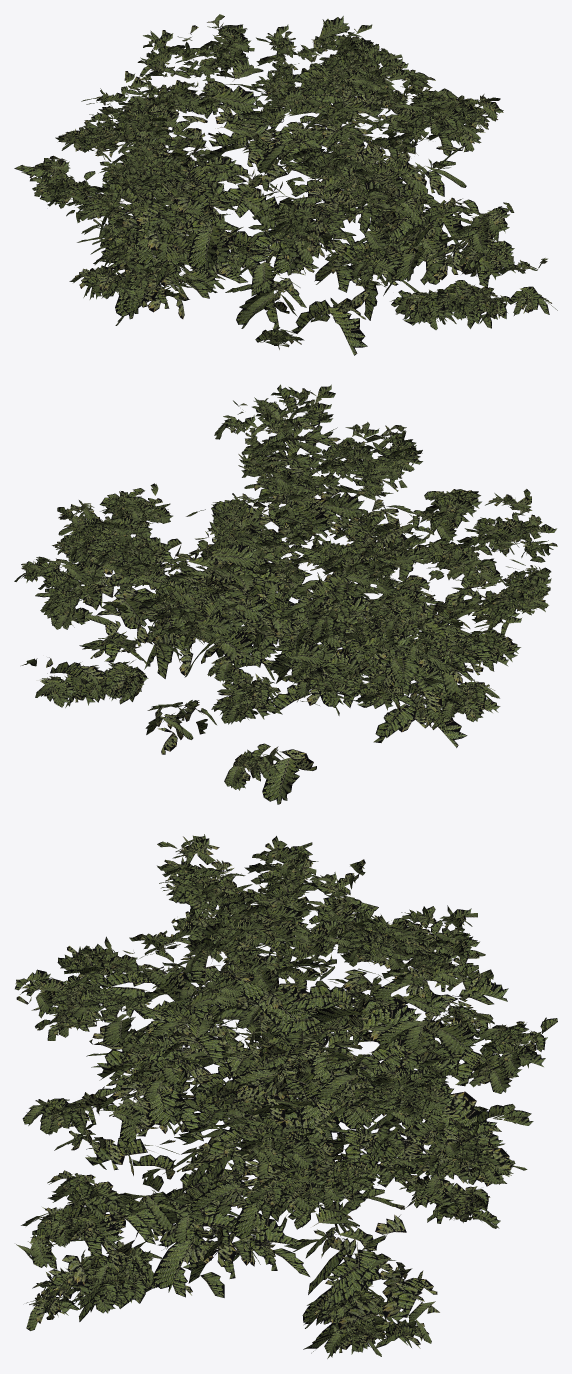
Rendered from jacaranda_L0_hojas.glb.
3 renders of one model, top to bottom at view 1: azimuth 30°, elevation 25°; view 2: azimuth 150°, elevation 25°; view 3: azimuth 270°, elevation 25°, orthographic. The views are drawn at different scales.
Visible parts, largest first — view 1: jacaranda_tree_LOD0; view 2: jacaranda_tree_LOD0; view 3: jacaranda_tree_LOD0.
Part boxes in pixels (x1,y1,x2,y2): jacaranda_tree_LOD0: (14,14,557,355); jacaranda_tree_LOD0: (14,384,557,804); jacaranda_tree_LOD0: (15,834,557,1358).
Size of the model in its own units: 24.89 by 14.76 by 19.07.
Materials: 1 (1 with a texture image).
